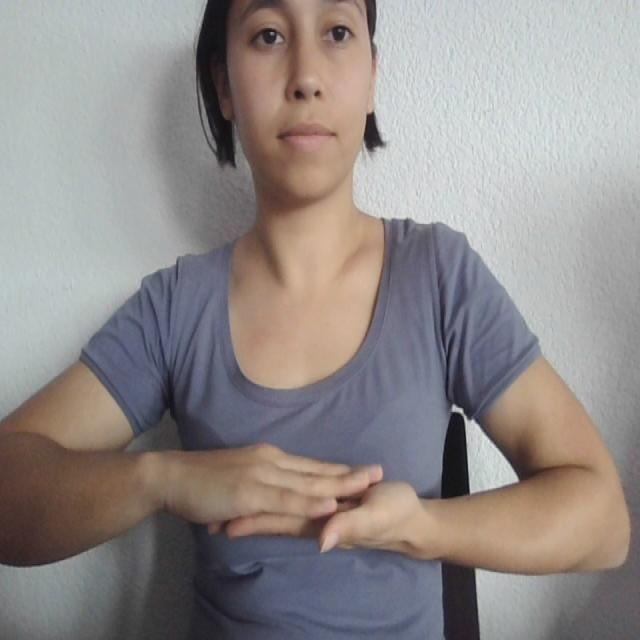Arkadas: (43, 424, 574, 586)
